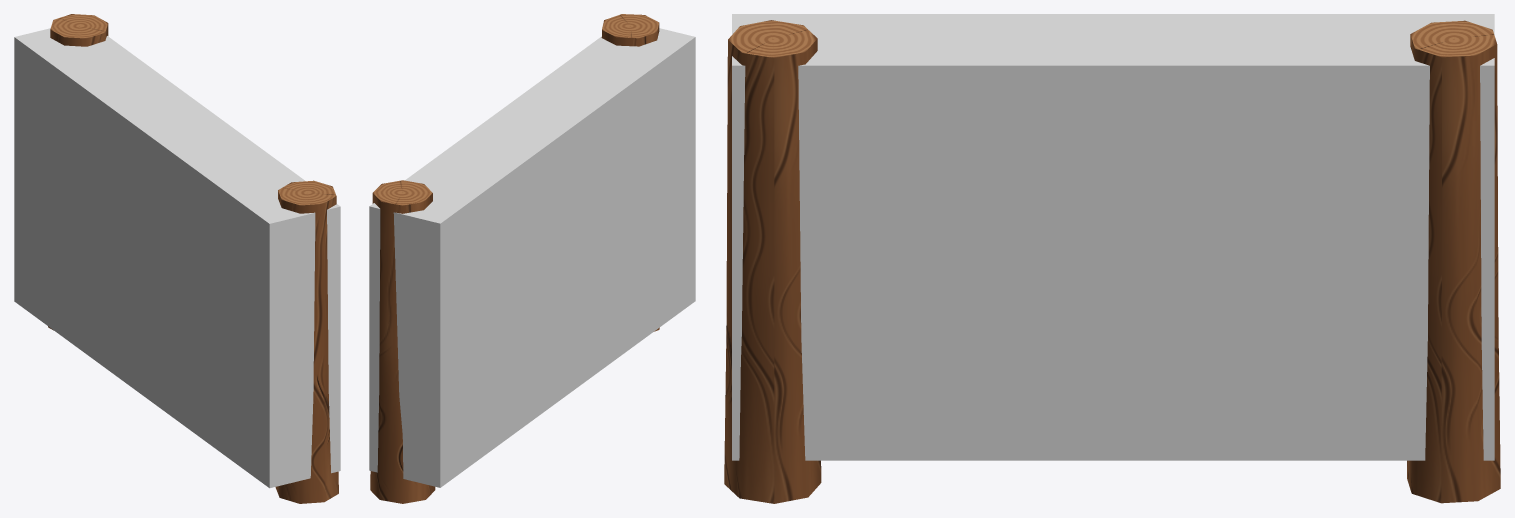
Rendered from SM_Fence_Gate.fbx.
3 renders of one model, left to right at view 1: azimuth 30°, elevation 25°; view 2: azimuth 150°, elevation 25°; view 3: azimuth 270°, elevation 25°, orthographic. The views are drawn at different scales.
Visible parts, largest first — view 1: FenceGate_Col0, FenceGate_Body; view 2: FenceGate_Col0, FenceGate_Body; view 3: FenceGate_Col0, FenceGate_Body.
Part boxes in pixels (box(x1,y1,x2,y2)): FenceGate_Col0: box(14, 28, 340, 488); FenceGate_Body: box(48, 14, 338, 503); FenceGate_Col0: box(369, 28, 695, 487); FenceGate_Body: box(370, 14, 659, 503); FenceGate_Col0: box(732, 14, 1494, 460); FenceGate_Body: box(724, 20, 1500, 503).
Bounding box in the file's own units: 1.01 × 3.6 × 5.7.
